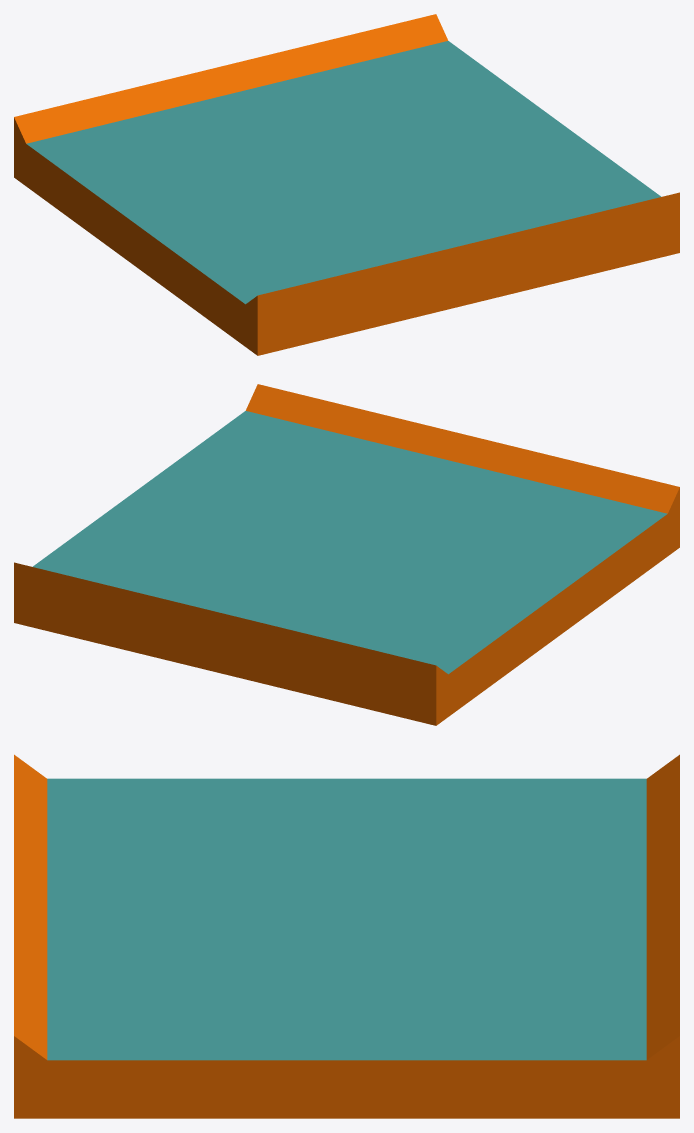
The model's file is launcher.fbx.
3 views of the same model, one above another, from view 1: azimuth 30°, elevation 25°; view 2: azimuth 150°, elevation 25°; view 3: azimuth 270°, elevation 25° (orthographic). The views are drawn at different scales.
Parts seen in each view (by area): view 1: Cube; view 2: Cube; view 3: Cube.
Part boxes in pixels (box(x1,y1,x2,y2)): Cube: box(14, 14, 679, 355); Cube: box(14, 384, 679, 725); Cube: box(14, 754, 679, 1118).
Size of the model in its own units: 2 by 2 by 0.4808.
